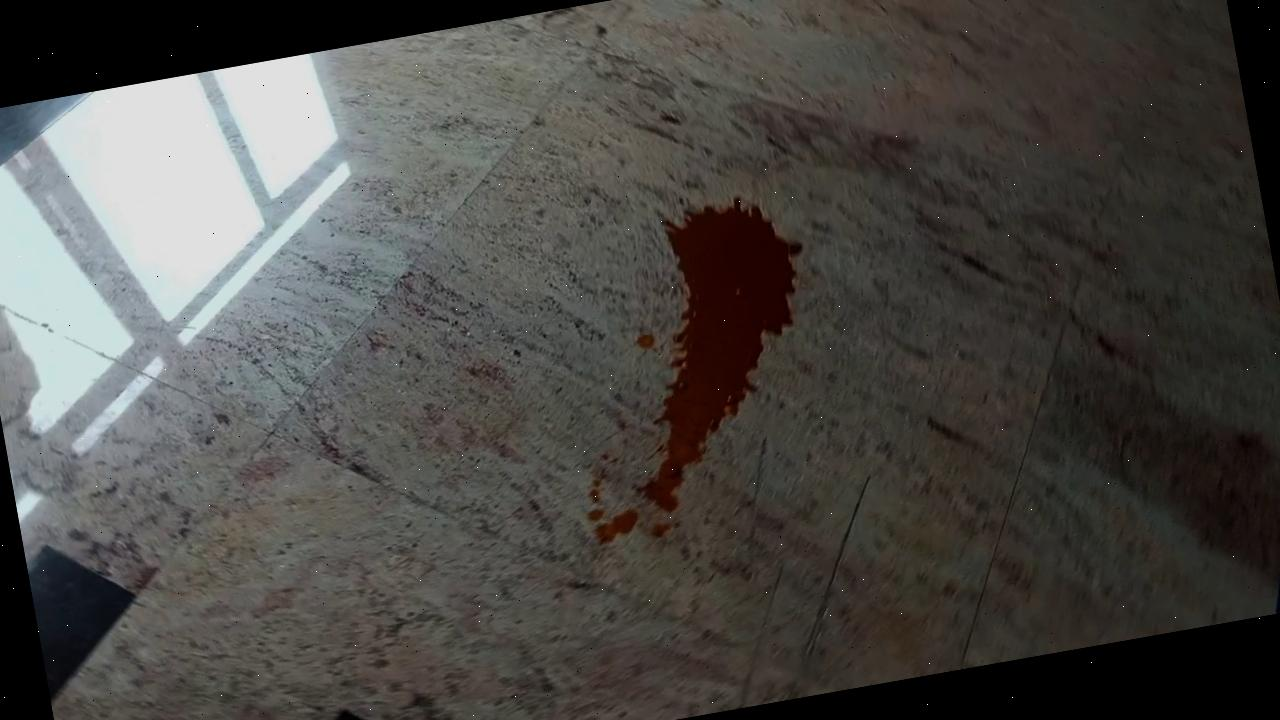dirty_floor: (540, 183, 850, 558)
